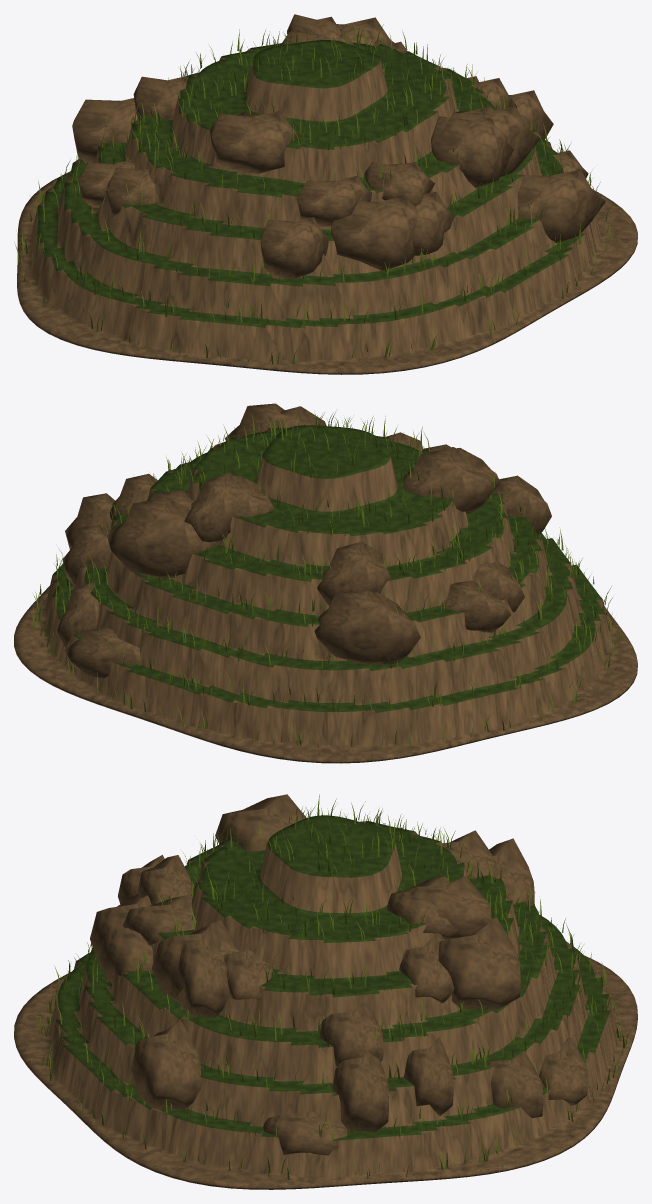
File: 07_small_hill_v4_strata.glb
3 views of the same model, one above another, from view 1: azimuth 30°, elevation 25°; view 2: azimuth 150°, elevation 25°; view 3: azimuth 270°, elevation 25° (orthographic). The views are drawn at different scales.
Visible parts, largest first — view 1: Hill variant | distinct closed terrain heightfield.002, 07_small_hill_v4_strata | Variants | ochre rock strata, Hill variant | slope grasses.002; view 2: Hill variant | distinct closed terrain heightfield.002, 07_small_hill_v4_strata | Variants | ochre rock strata, Hill variant | slope grasses.002; view 3: Hill variant | distinct closed terrain heightfield.002, 07_small_hill_v4_strata | Variants | ochre rock strata, Hill variant | slope grasses.002.
Part boxes in pixels (x1,y1,x2,y2): Hill variant | distinct closed terrain heightfield.002: (17, 40, 637, 374); 07_small_hill_v4_strata | Variants | ochre rock strata: (72, 14, 605, 278); Hill variant | slope grasses.002: (14, 23, 610, 364); Hill variant | distinct closed terrain heightfield.002: (14, 425, 637, 763); 07_small_hill_v4_strata | Variants | ochre rock strata: (57, 403, 551, 677); Hill variant | slope grasses.002: (29, 412, 620, 749); Hill variant | distinct closed terrain heightfield.002: (14, 815, 637, 1189); 07_small_hill_v4_strata | Variants | ochre rock strata: (90, 794, 587, 1155); Hill variant | slope grasses.002: (38, 794, 631, 1179).
Bounding box in the file's own units: 8.1 × 2.88 × 7.3.
3 materials, 3 textured.
